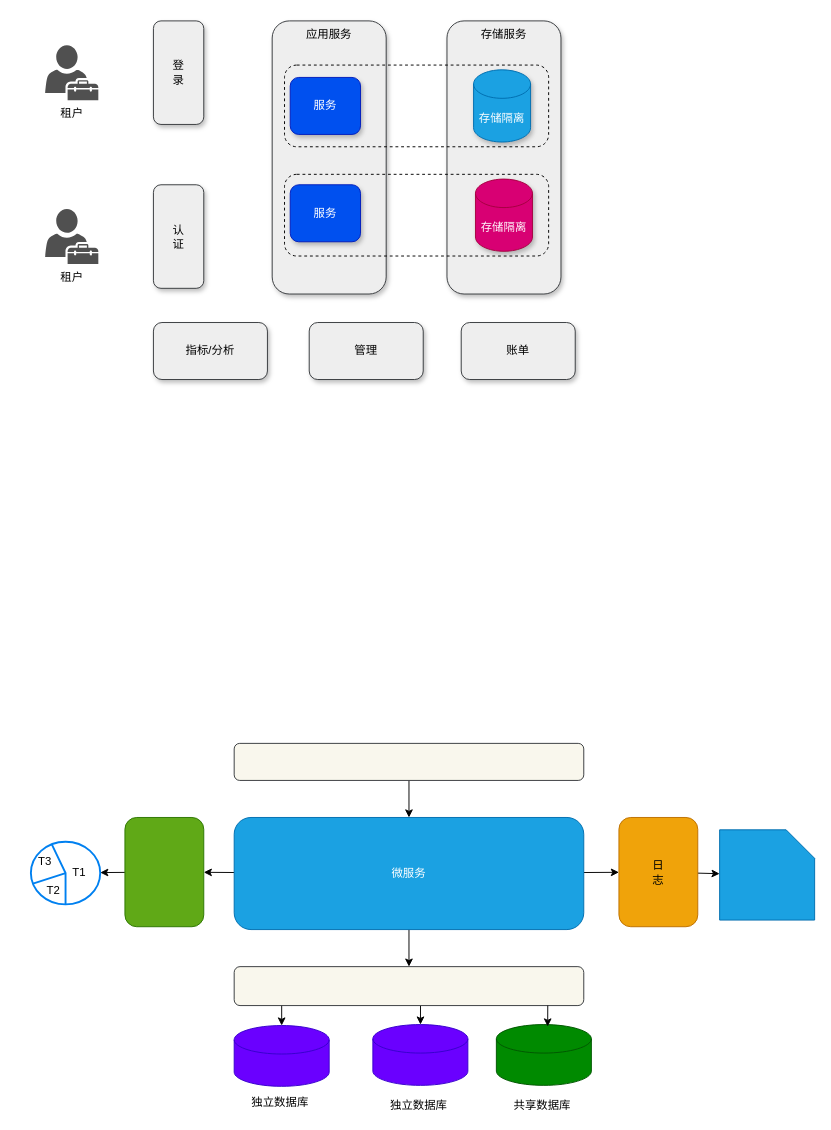
Image size: 831x1130. Some labels were removed from this diagram. The shapes that lost their labels are listed below. From the top down, each one's centre as x and y in pixels, then its label:
At [408,761]: "鉴权".
At [164,872]: "使 用 度 量".
At [767,874]: "T1 --------- T2 --------- T3 ---------".
At [408,986]: "数据访问层".
